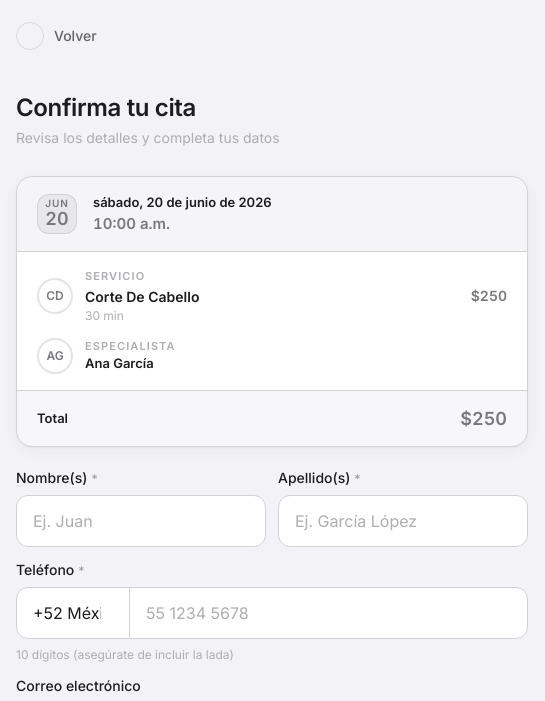
it: ClientForm — phoneErr — validación por país › +52 México con 9 dígitos → muestra error de teléfono
Select "+52 México" in the dropdown: [73, 613] box [17,588,129,638]
In the field labelled "Teléfono*": [328, 613] box [130,588,527,638], type "551234567"
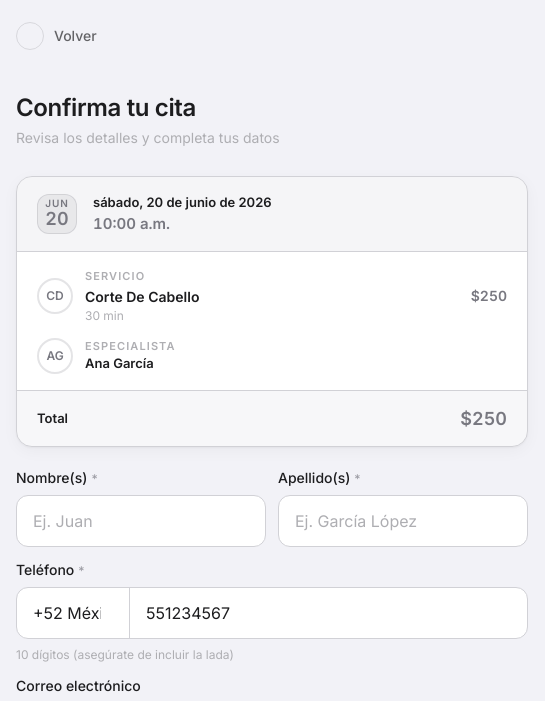
Leave the field labelled "Teléfono*", box [130,588,527,638]
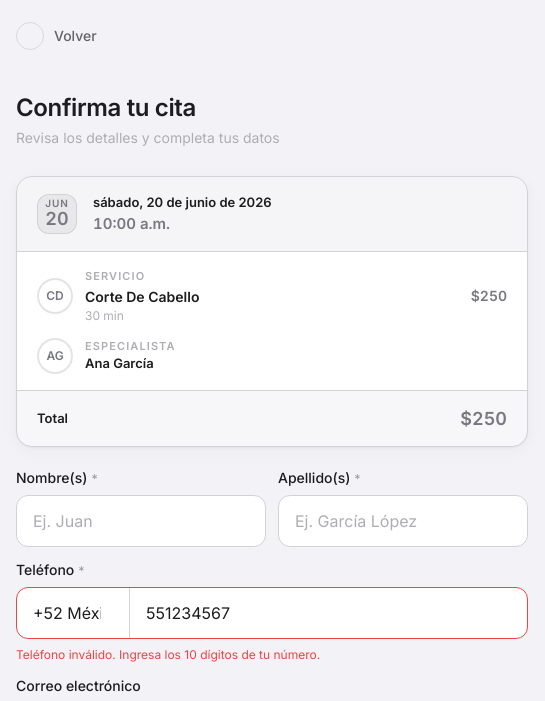
Result: the text "Teléfono inválido. Ingresa los 10 dígitos de tu número." is shown at [16,647,320,662]
